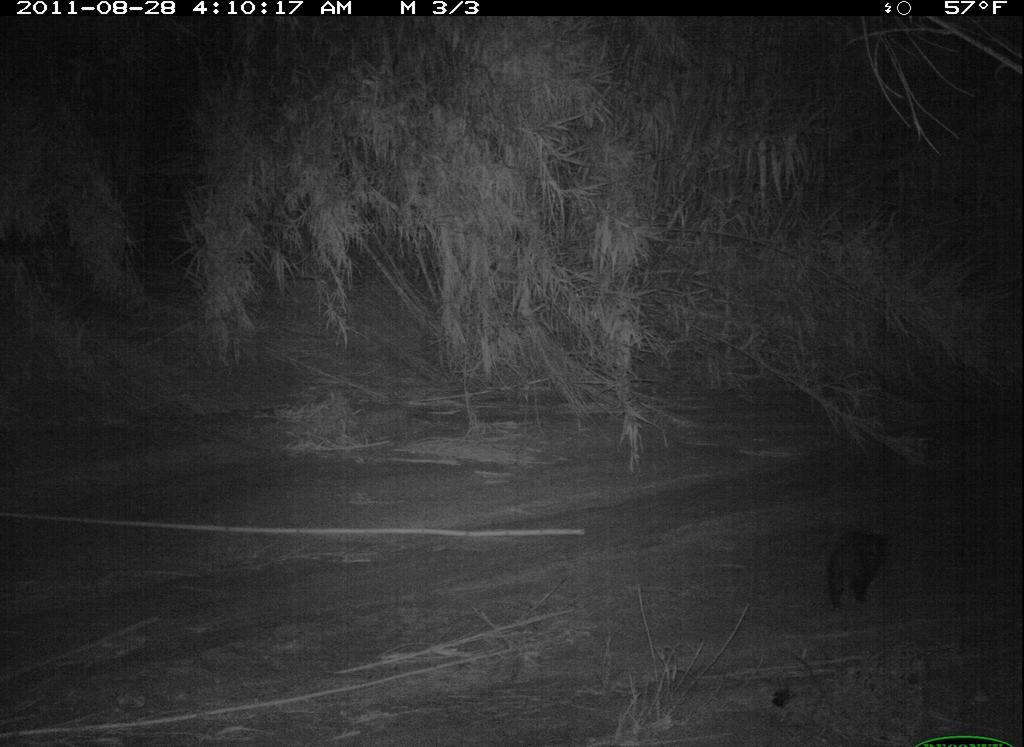opossum: (820, 525, 900, 623)
